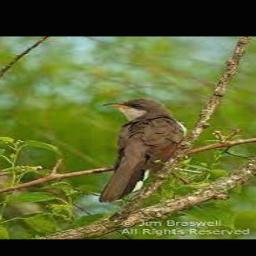Cuckoo: (97, 98, 188, 202)
